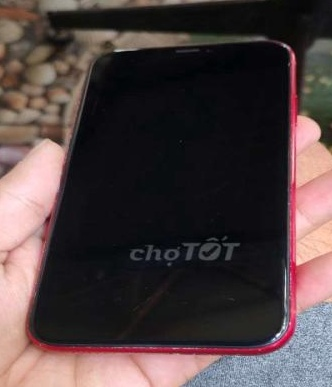scratch: (255, 307, 304, 347), (69, 342, 148, 353), (278, 53, 304, 76), (167, 339, 197, 358)
